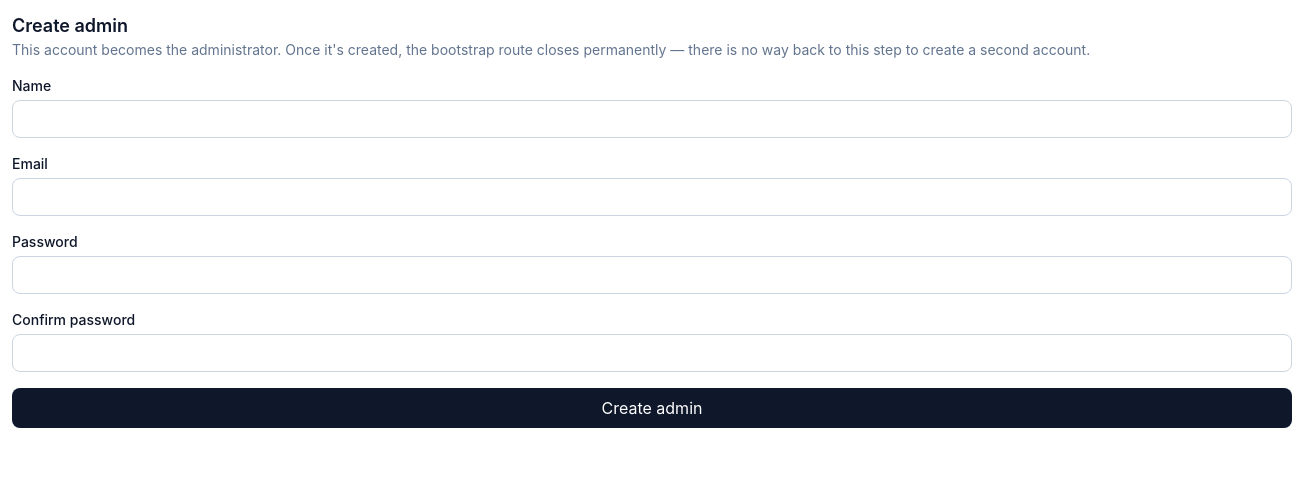
Test case: StepCreateAdmin › refuses a mismatched confirmation client-side, with no request
Type "Ada" into the field labelled "Name" at (652, 119), box [12,100,1292,138]
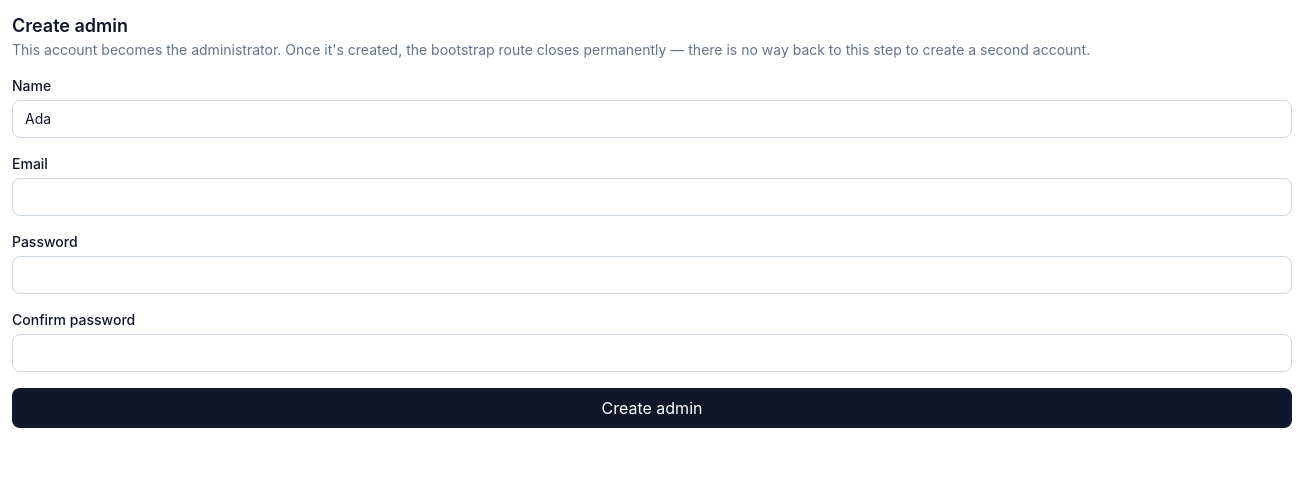
Type "ada@example.com" into the field labelled "Email" at (652, 197), box [12,178,1292,216]
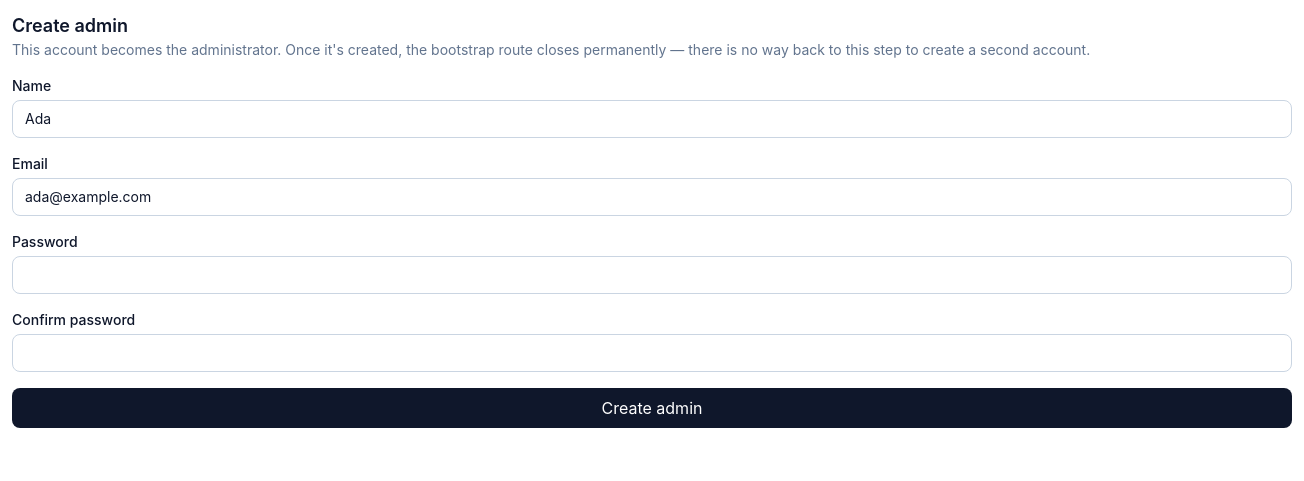
Type "correct-horse-battery" into the password field labelled "Password" at (652, 275), box [12,256,1292,294]
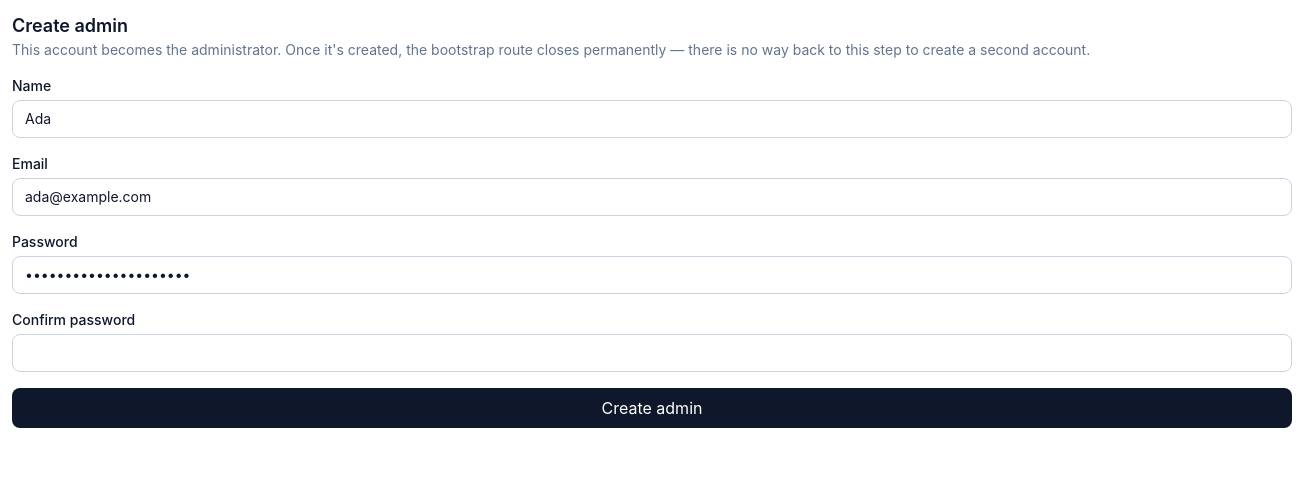
Type "correct-horse-battery-2" into the password field labelled "Confirm password" at (652, 353), box [12,334,1292,372]
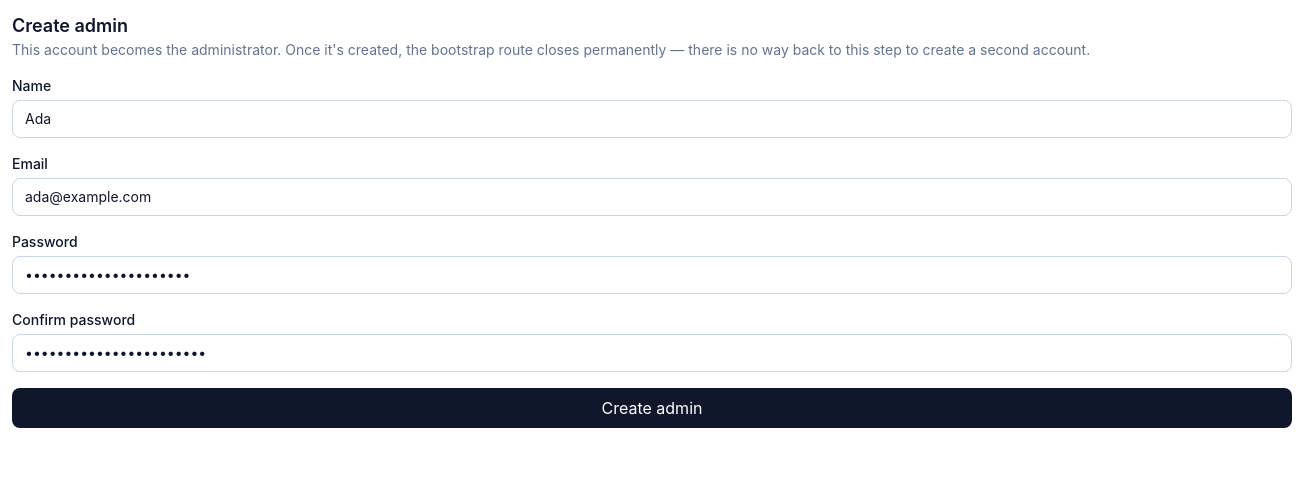
Click the button "Create admin" at (652, 408), box [12,388,1292,428]
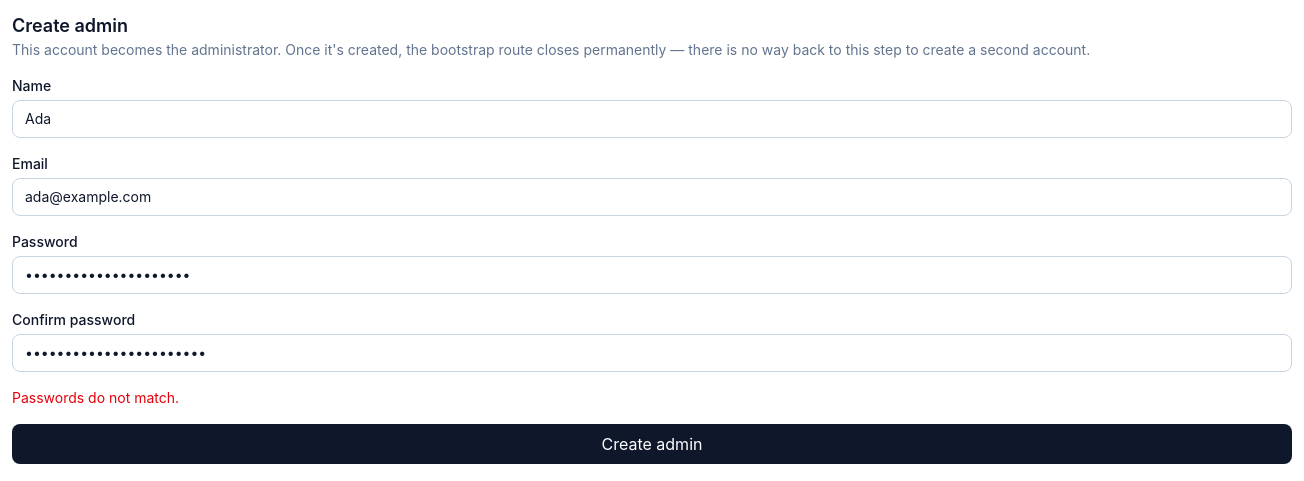
Expected: the text "Passwords do not match." is shown, [12,389,179,406]
